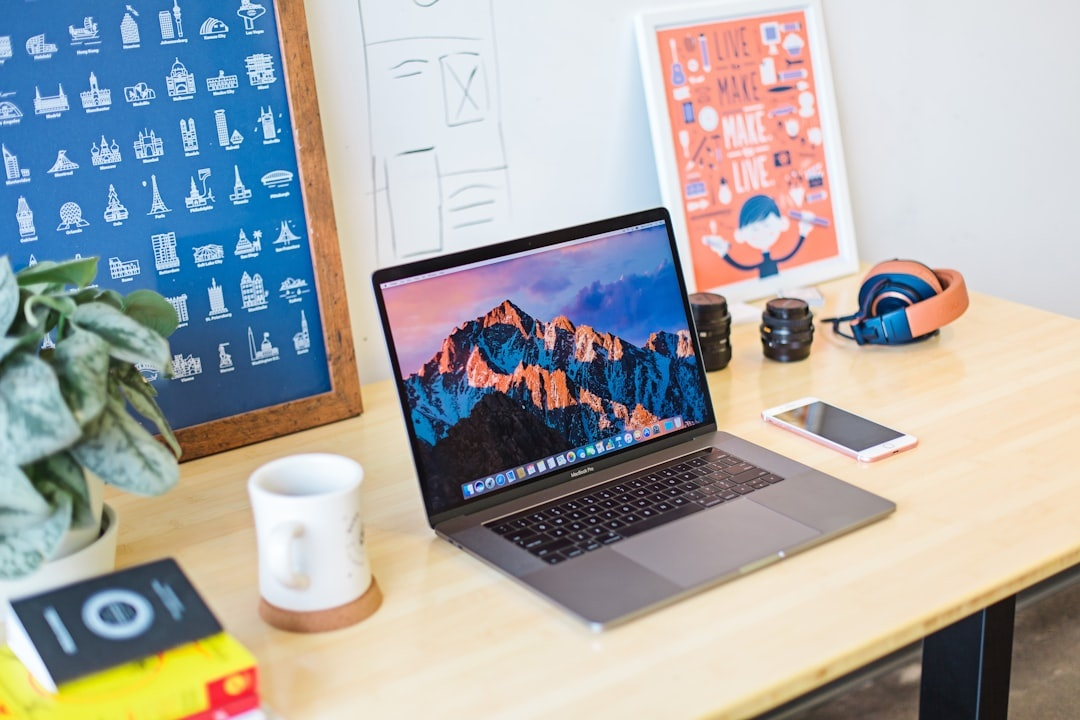laptop: (361, 193, 909, 649)
